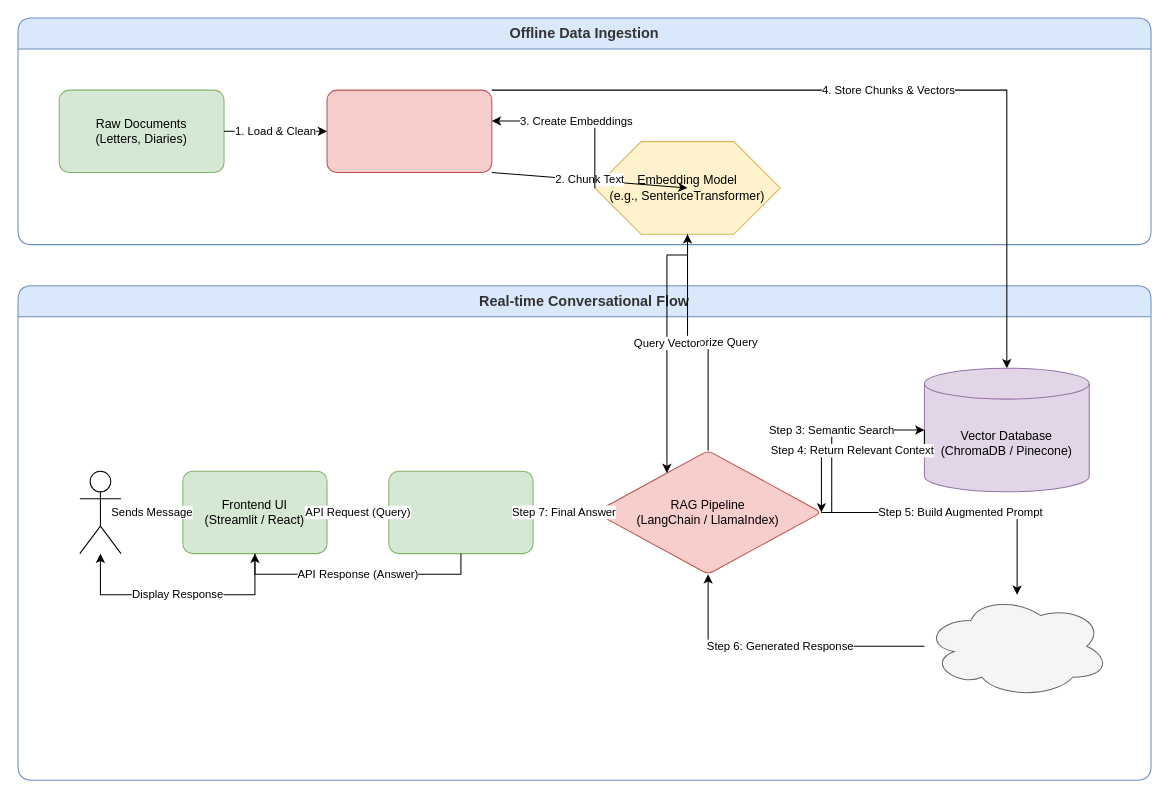
This 1169x798 diagram has some shape labels left out. Here are the shapes that lost their labels. From the top down, the centre of each, then its label:
At point (409, 131): "Data Processing Script".
At point (100, 512): "User".
At point (460, 512): "Application Server (FastAPI / Flask)".
At point (1016, 646): "LLM Service (GPT-4o, Claude 3, Gemini)".
